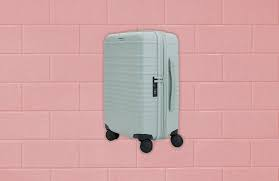suitcase: (98, 28, 185, 152)
